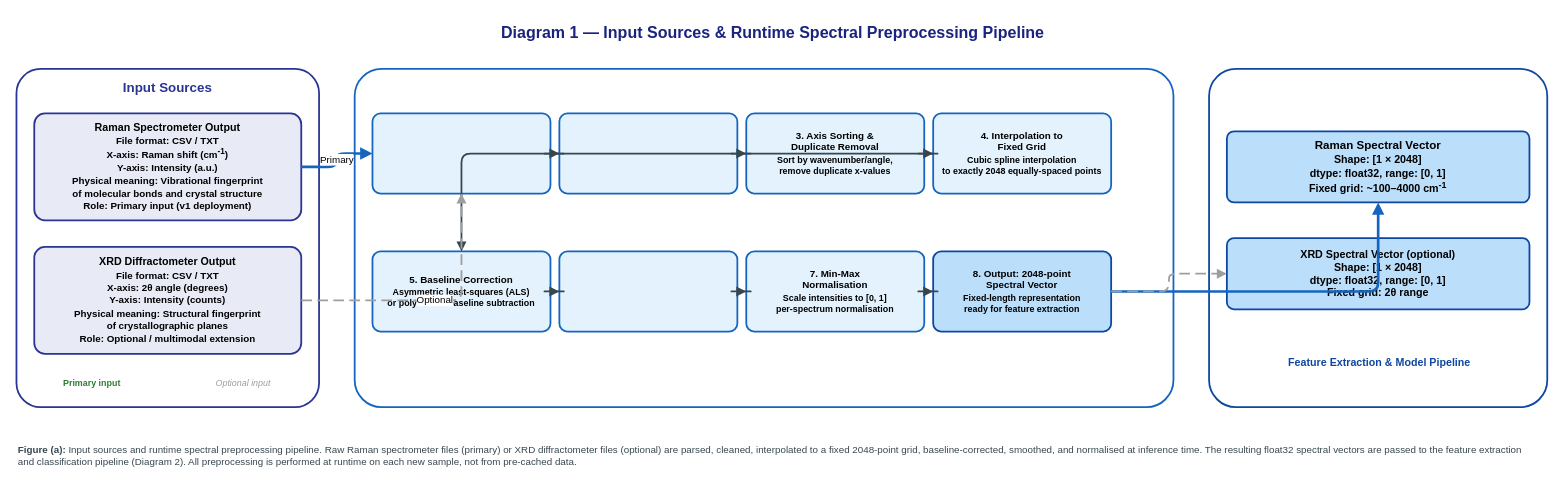
Some shapes in this 1563 by 493 pixel diagram are drawn without their labels. The shapes that lost their labels are listed below. From the top down, each one's box as (x1, y1, x2, y2) in pixels, then its label:
(371, 112, 551, 194): 1. Raw File Parsing Read CSV/TXT, detect delimiter, extract (x, y) columns
(558, 112, 738, 194): 2. Invalid Row Removal Drop NaN, Inf, negative intensities, non-numeric entries
(353, 68, 1174, 408): Runtime Spectral Preprocessing (executed at inference time, not cached)
(1208, 68, 1548, 408): Preprocessed Output
(558, 250, 738, 332): 6. Savitzky-Golay Smoothing Polynomial smoothing filter preserves peak shapes
